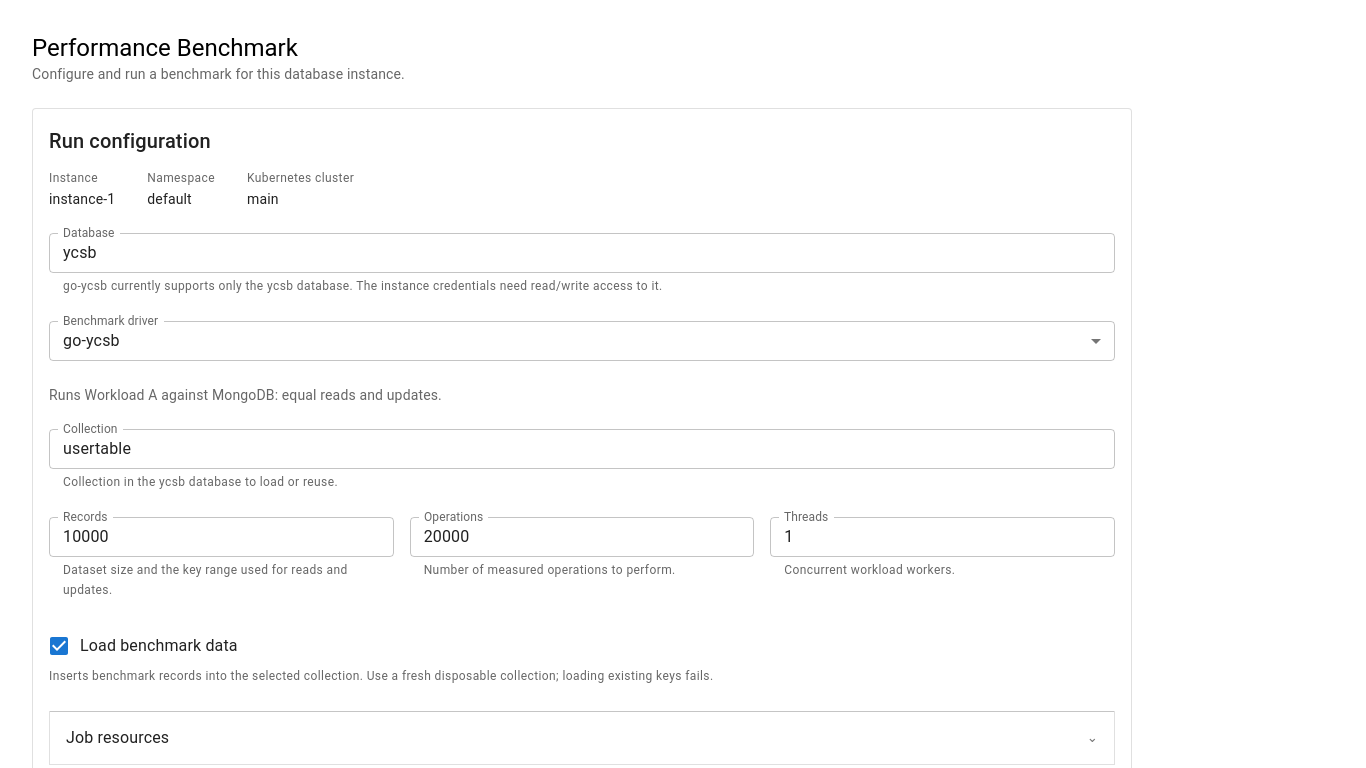
Test case: benchmark driver workflow › offers only go-ycsb for percona-server-mongodb
Press the mouse on the dropdown named "Benchmark driver": (91, 341) x1=63 y1=331 x2=120 y2=350
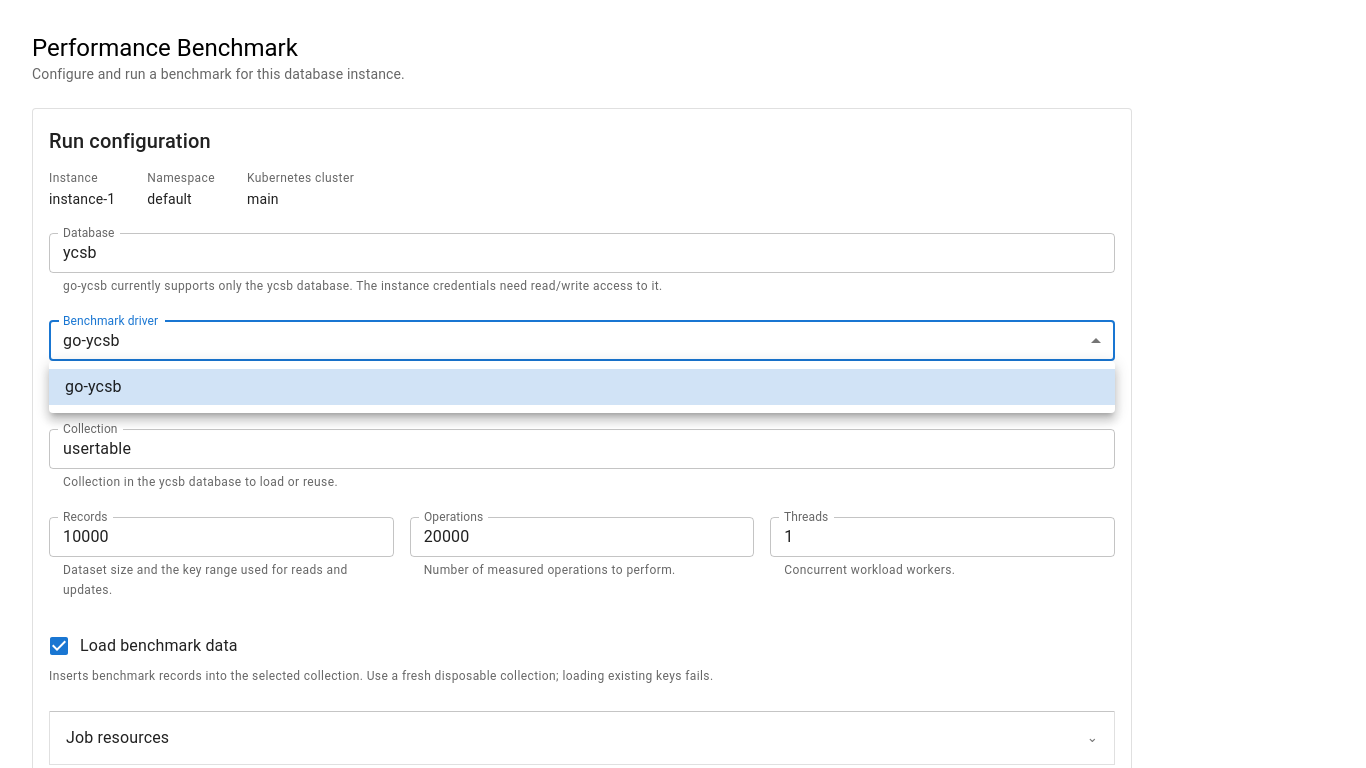
Check: the number of options is 1, box x1=49 y1=369 x2=1115 y2=405
Check: the option reads "go-ycsb", box x1=49 y1=369 x2=1115 y2=405
